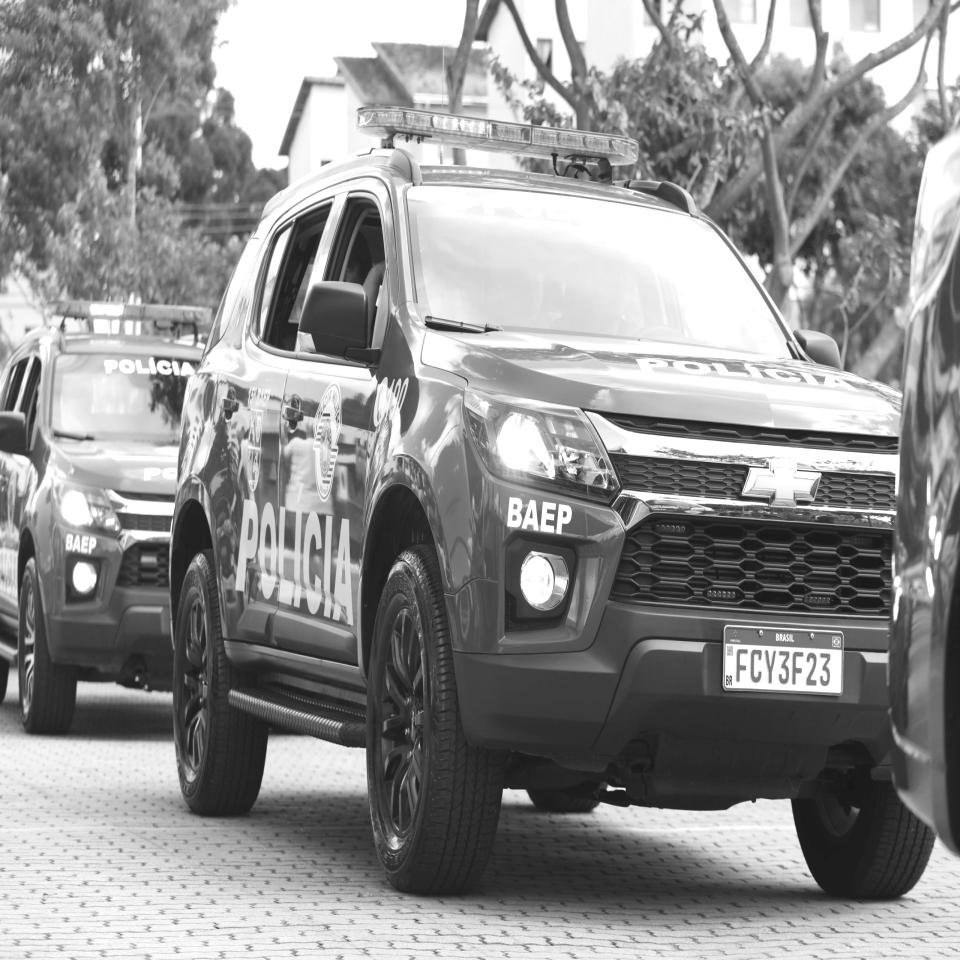viatura: (167, 97, 938, 907)
